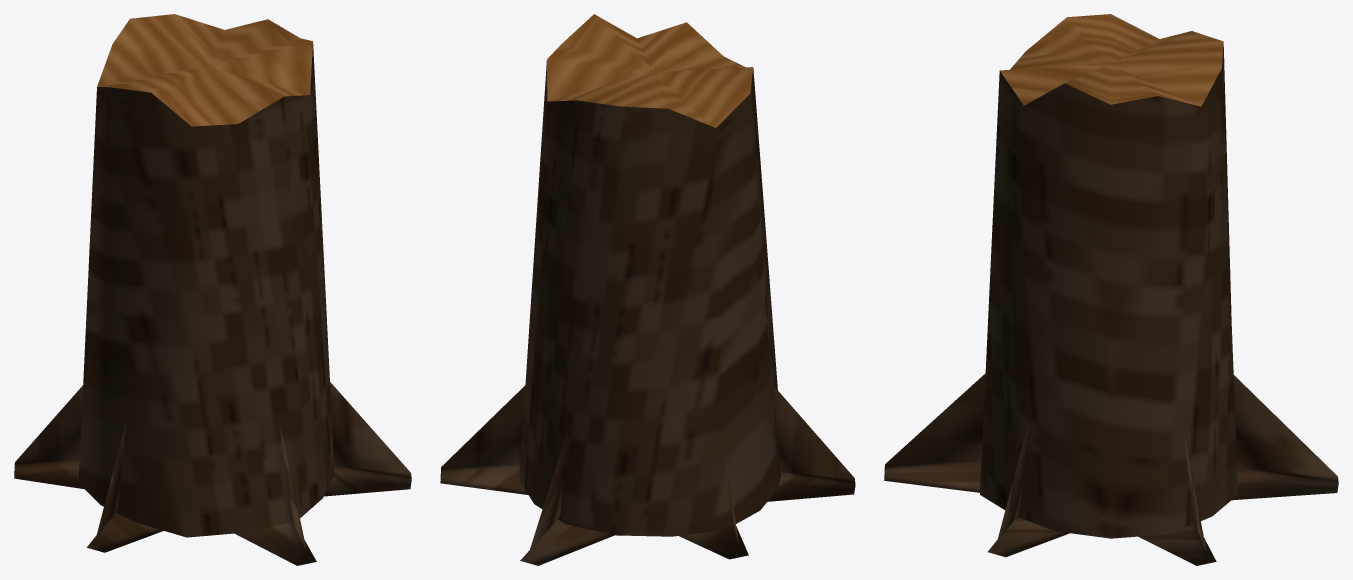
File: stump02_update-lod0.glb
The picture shows the model from 3 angles, left to right: view 1: azimuth 30°, elevation 25°; view 2: azimuth 150°, elevation 25°; view 3: azimuth 270°, elevation 25°; orthographic projection.
Parts seen in each view (by area): view 1: TZ_stump_Batch_00_LOD0, TZ_stump_Batch_01_LOD0; view 2: TZ_stump_Batch_00_LOD0, TZ_stump_Batch_01_LOD0; view 3: TZ_stump_Batch_00_LOD0, TZ_stump_Batch_01_LOD0.
Boxes of the visible parts, box(x1,y1,x2,y2) form: TZ_stump_Batch_00_LOD0: box(14, 43, 411, 565); TZ_stump_Batch_01_LOD0: box(97, 14, 312, 126); TZ_stump_Batch_00_LOD0: box(440, 61, 855, 565); TZ_stump_Batch_01_LOD0: box(547, 14, 753, 127); TZ_stump_Batch_00_LOD0: box(884, 44, 1338, 565); TZ_stump_Batch_01_LOD0: box(1000, 14, 1223, 106).
Size of the model in its own units: 0.5259 by 0.66 by 0.6185.
Materials: 3 (3 with a texture image).
